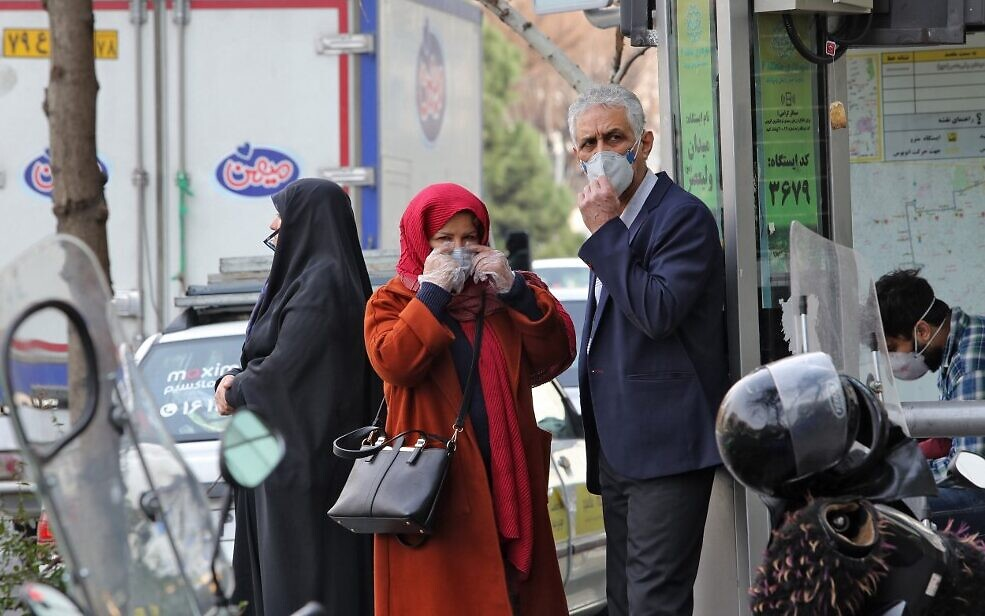Person: (548, 78, 744, 616), (377, 185, 566, 616), (244, 178, 385, 616)
